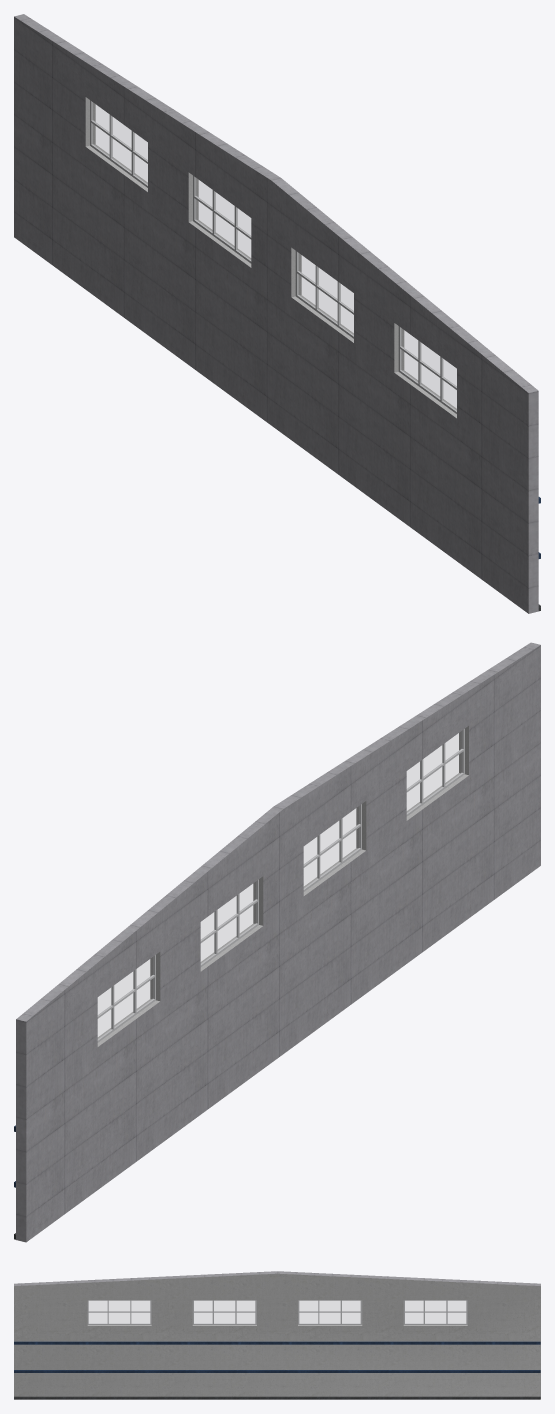
Rendered from WareFront_Walls_Wind.FBX.
3 renders of one model, top to bottom at view 1: azimuth 30°, elevation 25°; view 2: azimuth 150°, elevation 25°; view 3: azimuth 270°, elevation 25°, orthographic. The views are drawn at different scales.
Visible parts, largest first — view 1: WareFront_Walls_Wind, WareFront_Windglasse, WareFront_Wind; view 2: WareFront_Walls_Wind, WareFront_Windglasse, WareFront_Wind; view 3: WareFront_Walls_Wind, WareFront_Windglasse, WareFront_Metal, WareFront_Wind.
Part boxes in pixels (left/top/right/bottom): WareFront_Walls_Wind: left=14, top=14, right=540, bottom=613; WareFront_Windglasse: left=93, top=103, right=456, bottom=410; WareFront_Wind: left=90, top=100, right=456, bottom=413; WareFront_Walls_Wind: left=14, top=642, right=540, bottom=1242; WareFront_Windglasse: left=98, top=731, right=461, bottom=1038; WareFront_Wind: left=97, top=729, right=464, bottom=1042; WareFront_Walls_Wind: left=14, top=1271, right=540, bottom=1399; WareFront_Windglasse: left=89, top=1301, right=465, bottom=1323; WareFront_Metal: left=14, top=1341, right=540, bottom=1372; WareFront_Wind: left=87, top=1300, right=467, bottom=1324.
Bounding box in the file's own units: 20.33 × 383 × 1457.
